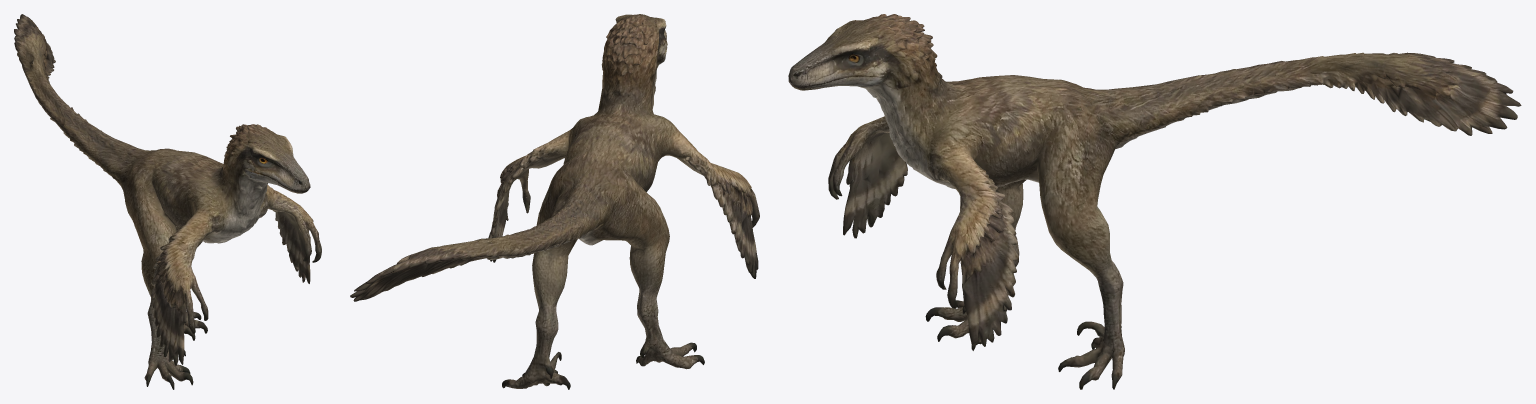
File: velociraptor.glb
The picture shows the model from 3 angles, left to right: view 1: azimuth 30°, elevation 25°; view 2: azimuth 150°, elevation 25°; view 3: azimuth 270°, elevation 25°; orthographic projection. The views are drawn at different scales.
Visible parts, largest first — view 1: dino; view 2: dino; view 3: dino.
Boxes of the visible parts, <box> form: dino: <box>14,14,321,389</box>; dino: <box>350,14,759,389</box>; dino: <box>788,14,1521,389</box>.
Bounding box in the file's own units: 0.7245 × 0.9714 × 1.8.
1 material, 1 textured.
